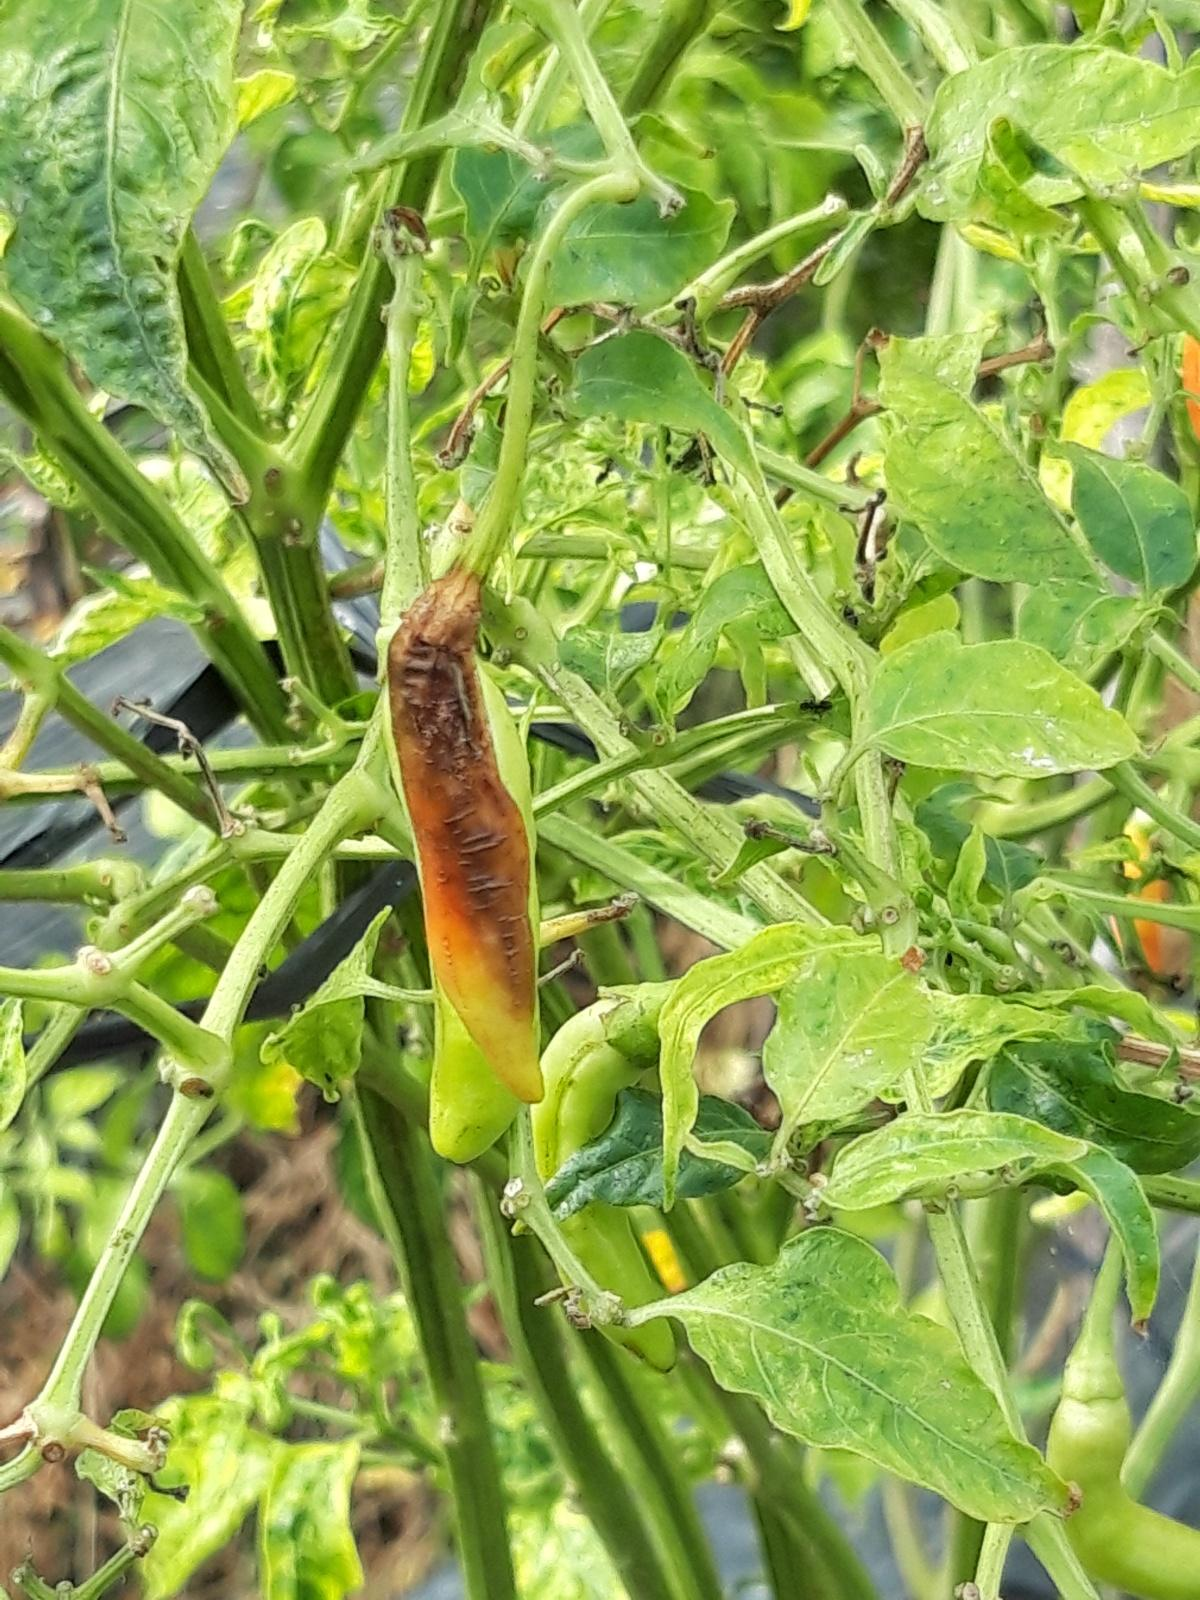lalat_buah: (386, 574, 547, 1104)
